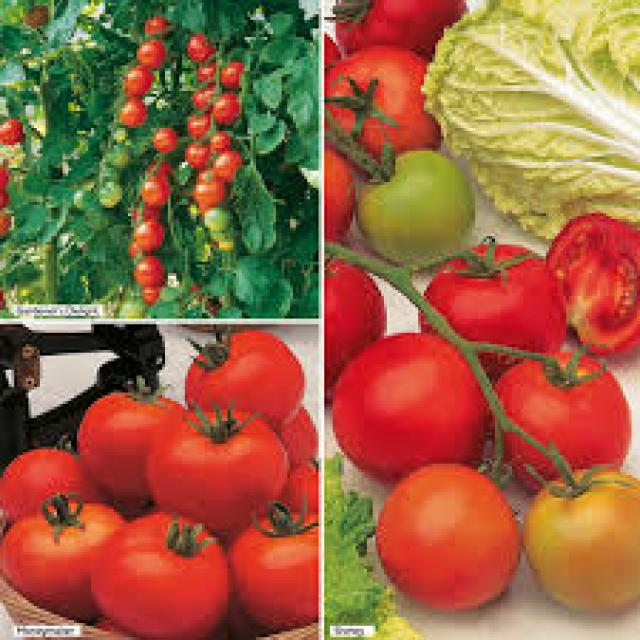organic waste: (418, 0, 637, 239), (336, 330, 484, 484), (372, 461, 514, 609), (418, 239, 563, 378), (88, 506, 230, 637), (495, 350, 629, 486), (324, 450, 416, 637), (518, 464, 637, 603), (145, 406, 282, 520), (321, 40, 438, 168), (5, 495, 120, 620), (538, 210, 637, 352), (350, 148, 472, 262), (77, 381, 185, 504), (228, 498, 318, 631), (185, 327, 301, 427), (321, 244, 384, 396), (329, 0, 466, 65), (0, 446, 91, 520), (322, 136, 356, 239), (278, 404, 316, 472), (282, 464, 318, 512), (128, 253, 165, 290), (131, 34, 165, 66), (122, 62, 154, 94), (131, 216, 159, 250), (190, 176, 222, 205), (97, 139, 128, 168), (211, 88, 236, 122), (182, 108, 211, 137), (139, 176, 168, 205), (0, 111, 26, 142), (208, 148, 236, 176), (114, 94, 139, 125), (125, 230, 145, 268), (142, 156, 168, 185), (125, 202, 154, 228), (96, 176, 120, 205), (150, 122, 173, 151), (202, 205, 228, 230), (182, 137, 205, 165), (145, 11, 165, 43), (185, 31, 208, 57), (219, 63, 242, 88), (190, 57, 213, 82), (211, 228, 236, 248), (190, 88, 213, 108), (210, 128, 228, 151), (136, 284, 156, 304), (26, 3, 42, 17), (0, 210, 9, 233), (0, 159, 6, 185), (0, 185, 6, 205)
